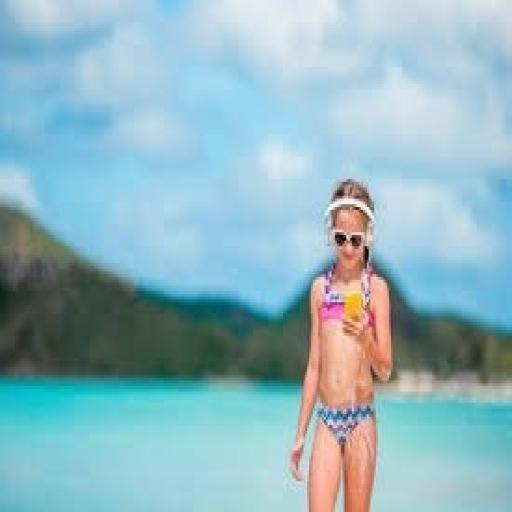listening_to_music: (286, 176, 396, 509)
